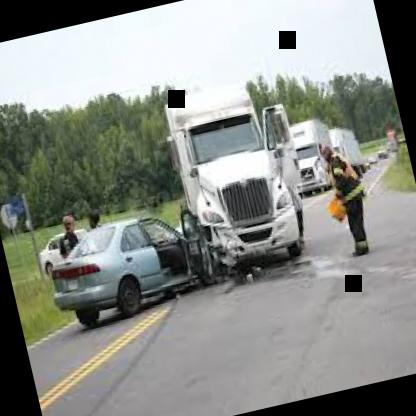accident: (6, 59, 335, 361)
